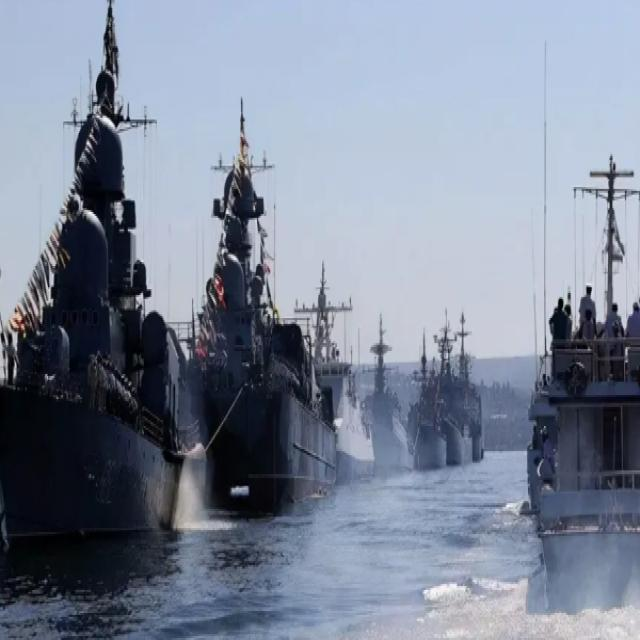navalvessels: (0, 0, 185, 540), (174, 93, 338, 514), (529, 154, 640, 609), (294, 248, 374, 479), (360, 303, 412, 474), (442, 310, 487, 464), (413, 326, 445, 469)
